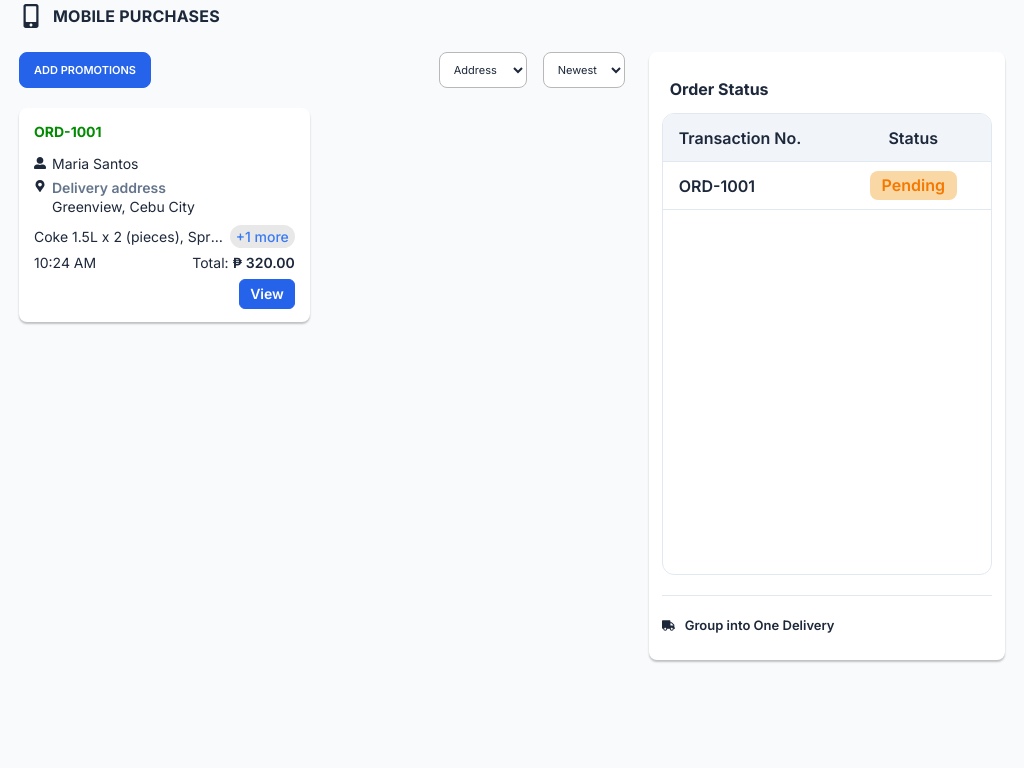
Scenario: fresh details show saved prices, discounts and subtotals without inventing missing prices
Step 1. Click the button with aria-label "View order details for ORD-1001" → coordinates (267, 294), box [239,279,295,309]
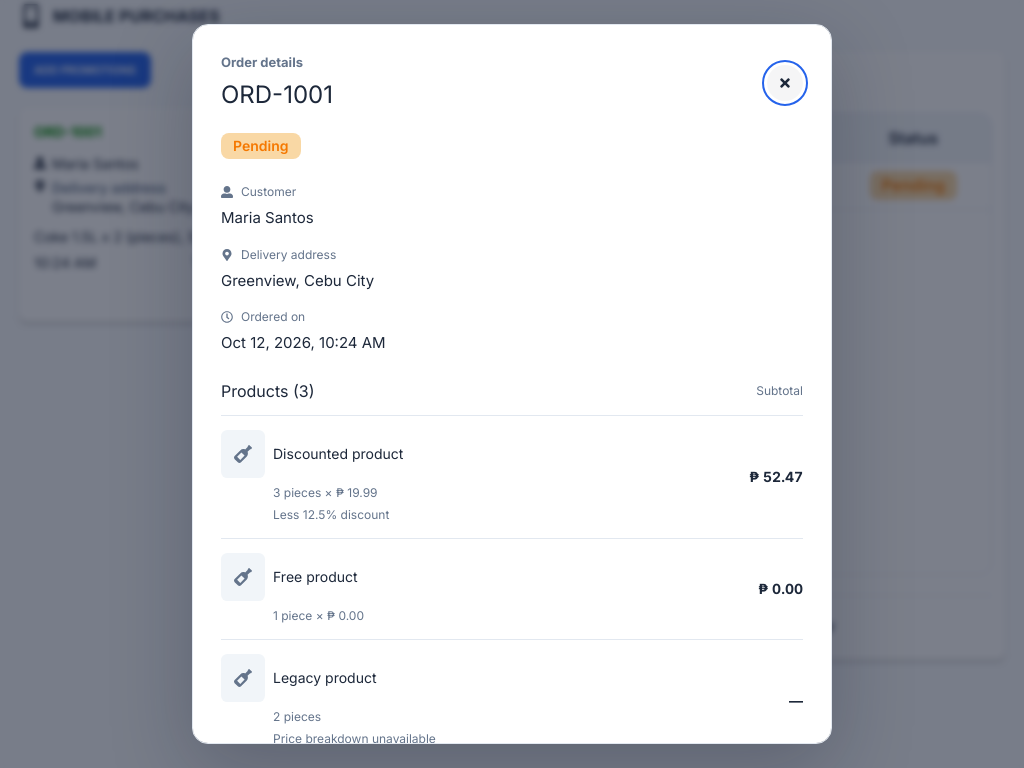
Expected: the list item "Discounted product" shows "3 pieces × ₱ 19.99", [221,416,803,539]
Expected: the list item "Discounted product" shows "Less 12.5% discount", [221,416,803,539]
Expected: the list item "Discounted product" shows "₱ 52.47", [749,468,803,485]
